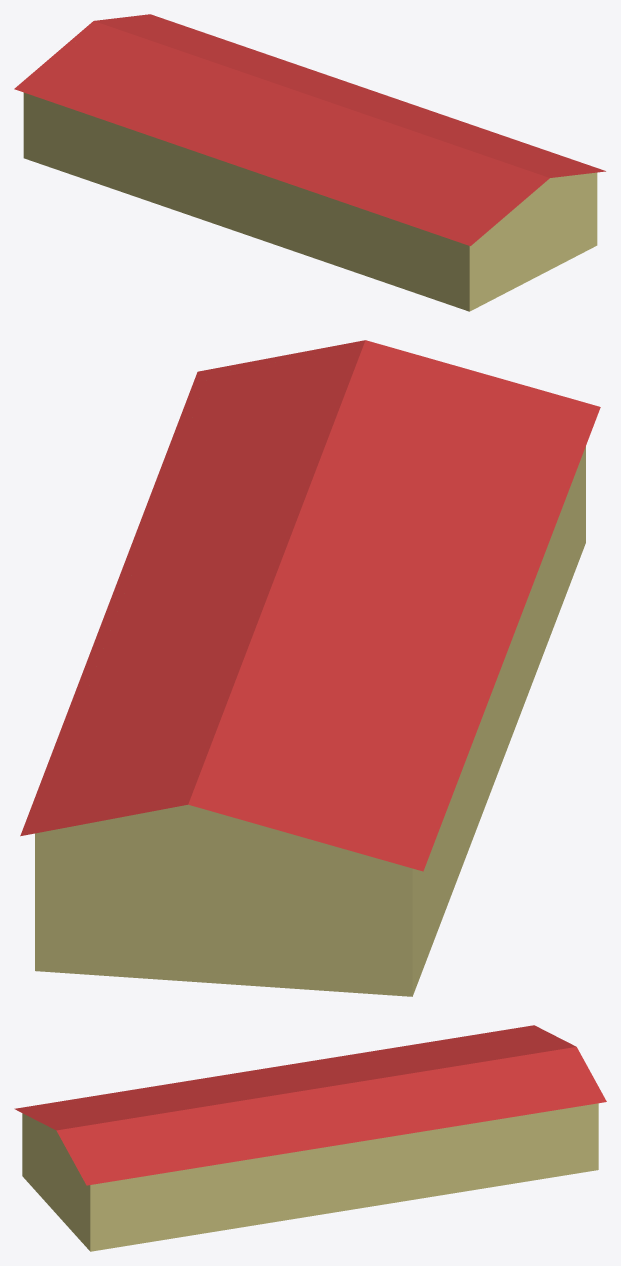
3 renders of one model, top to bottom at view 1: azimuth 30°, elevation 25°; view 2: azimuth 150°, elevation 25°; view 3: azimuth 270°, elevation 25°, orthographic. The views are drawn at different scales.
Size of the model in its own units: 29.88 by 45.57 by 7.73.
